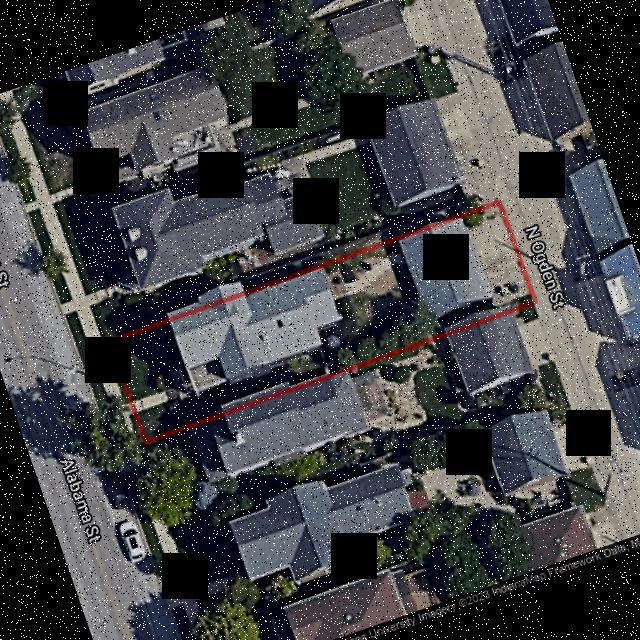Driveway: (466, 207, 527, 304), (328, 250, 405, 297), (132, 383, 191, 411)
Extra Driveway: (118, 403, 132, 432)
Extra Lawn: (76, 347, 106, 403)
Extra Sidewalk: (89, 341, 121, 394)
House: (170, 268, 339, 391)
Other: (397, 218, 491, 316)
